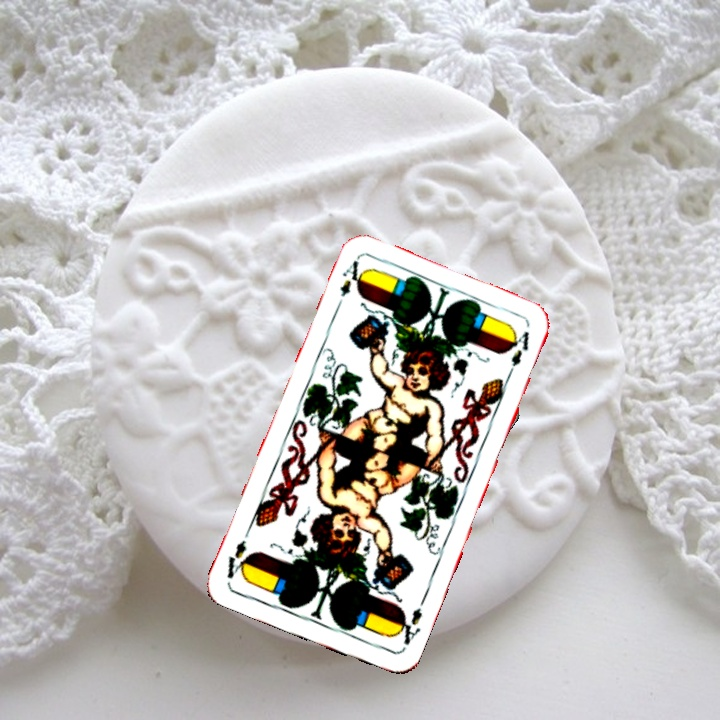EA: (391, 604, 425, 648), (336, 256, 367, 300)
